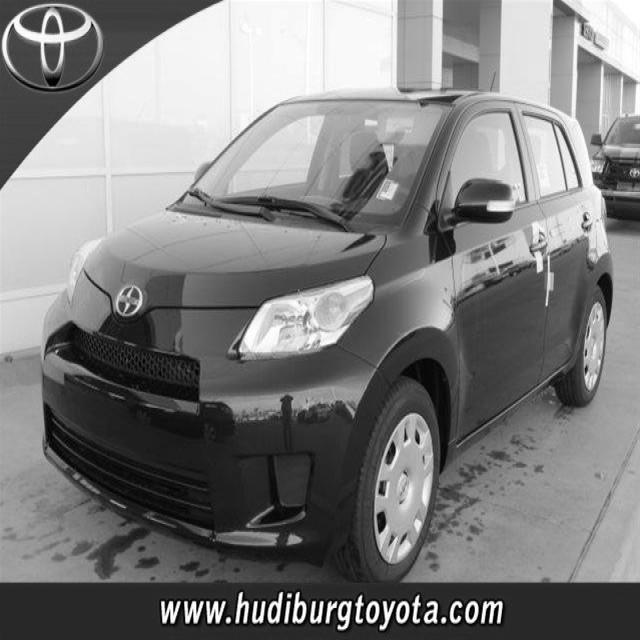car: (39, 84, 614, 581), (589, 112, 639, 220)
